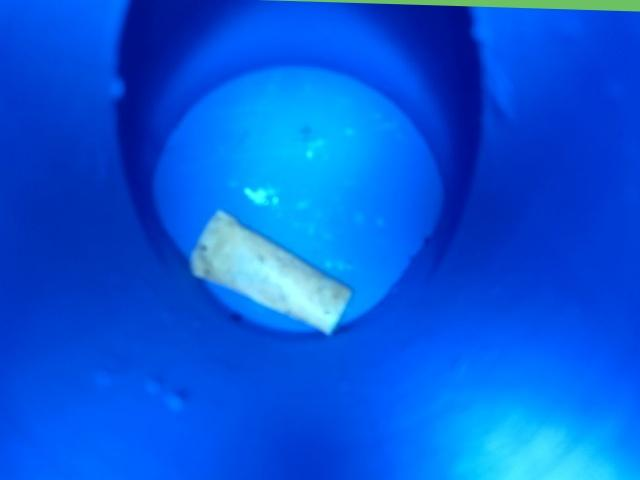megot: (173, 202, 365, 362)
